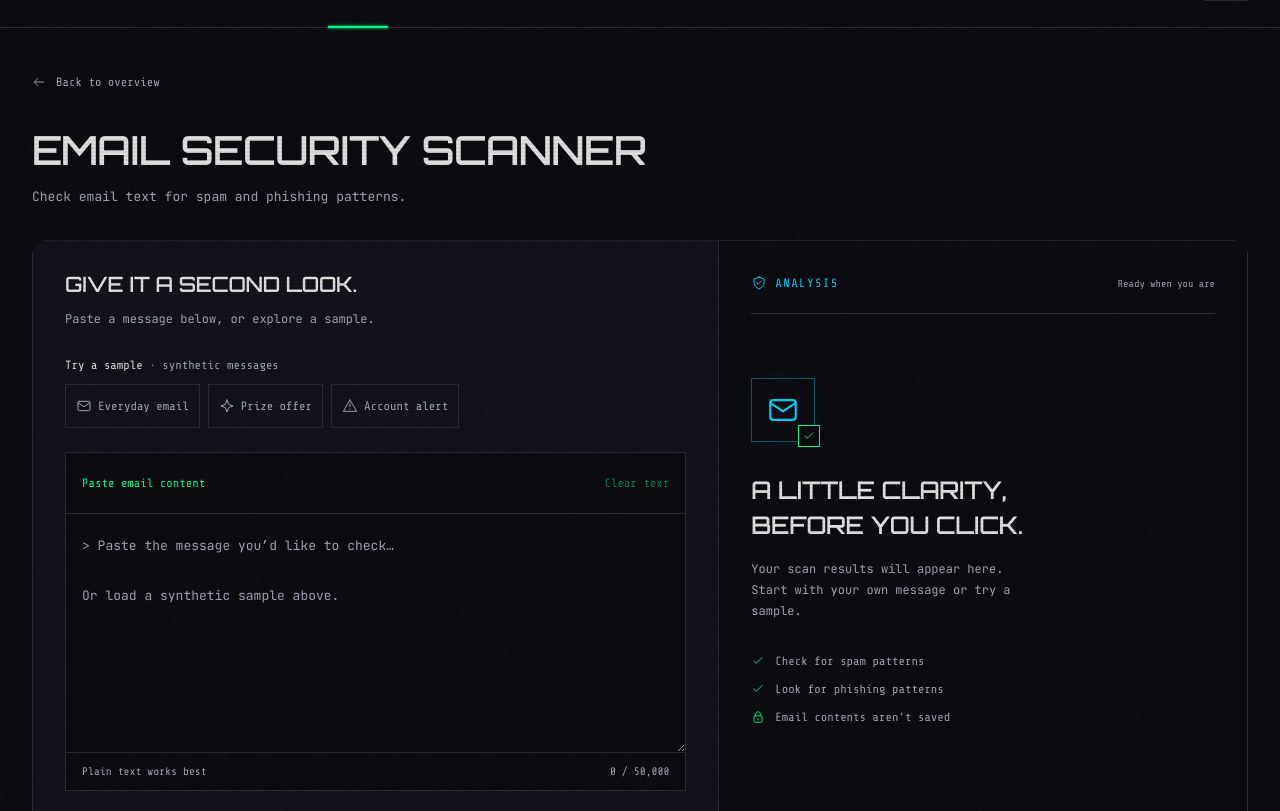
Test: keyboard shortcut scans and ignores duplicate submissions while pending
Replace the text in the text box labelled "Paste email content" with "hello". click: [376, 633]
box: [66,514,685,752]
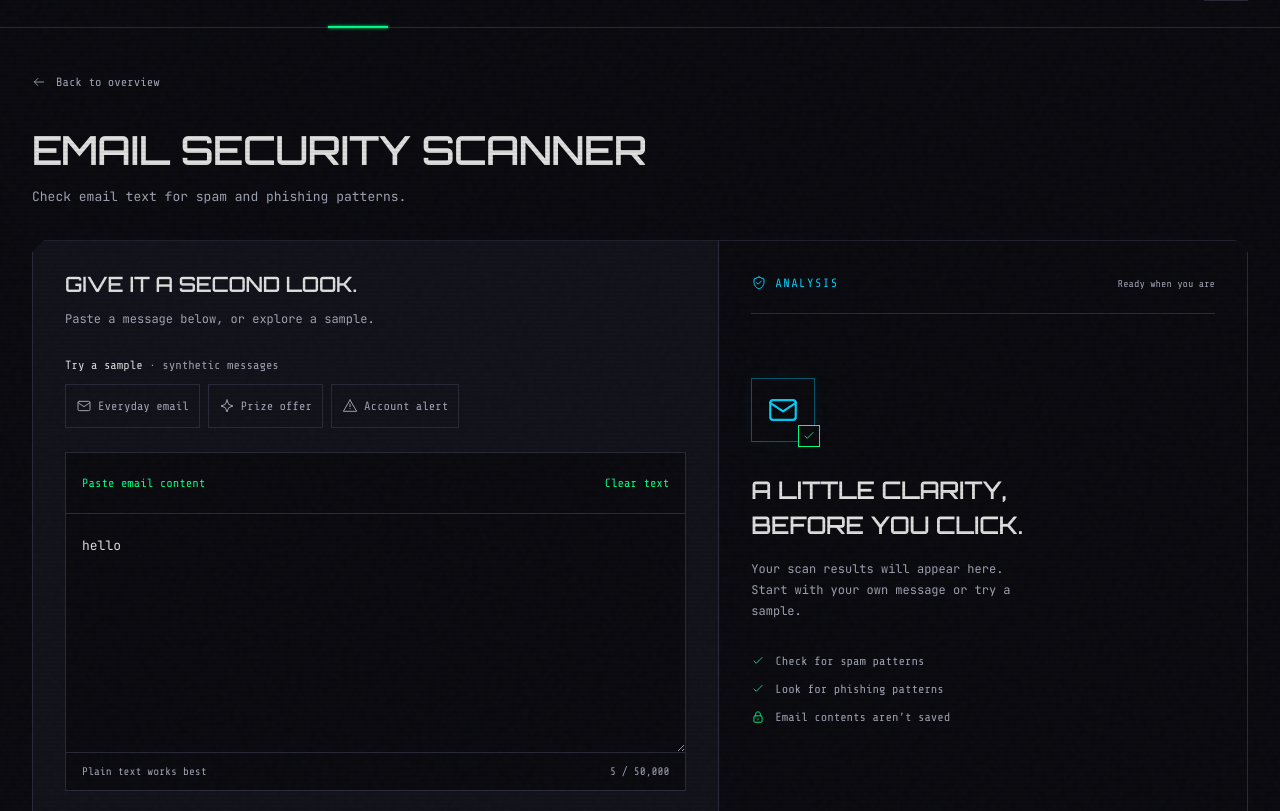
Press Enter in the text box labelled "Paste email content", box [66,514,685,752]
(page scrolled)
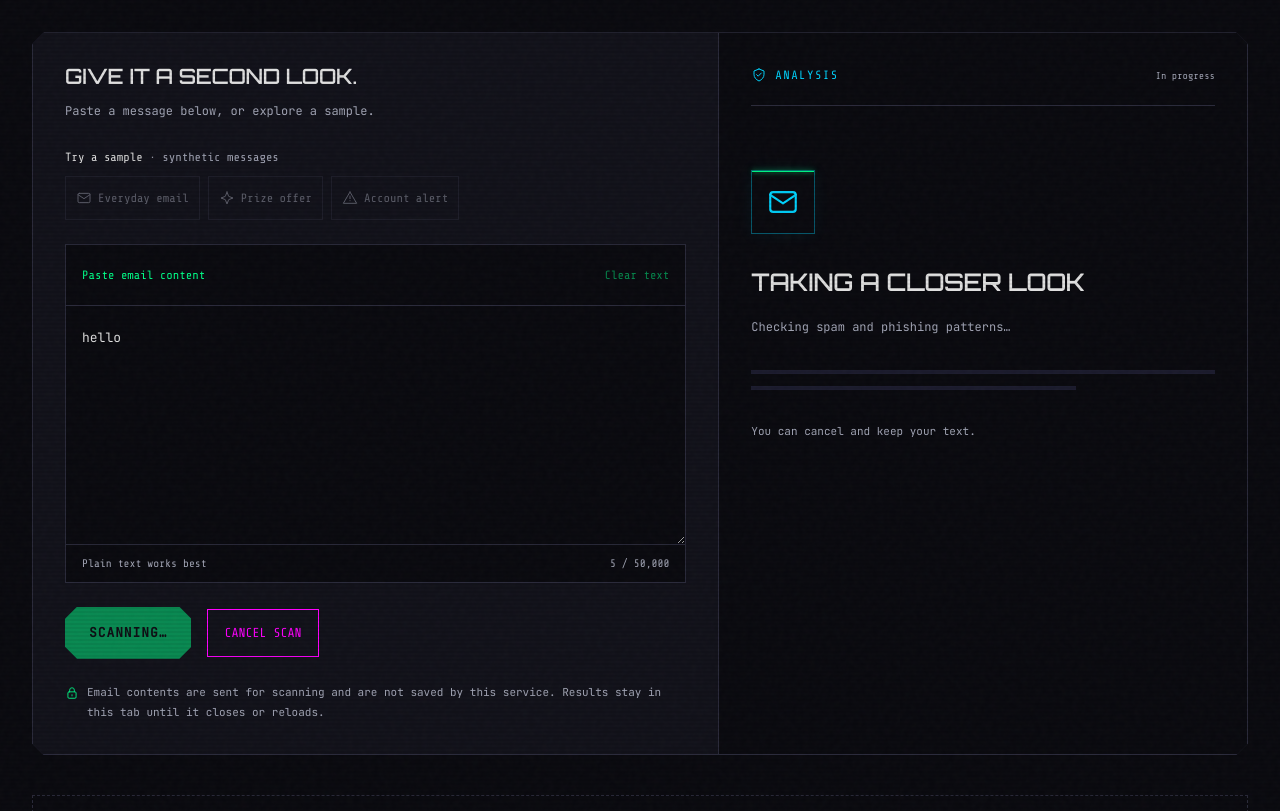
Submit the form named "Scanning…", box [33,33,718,754]
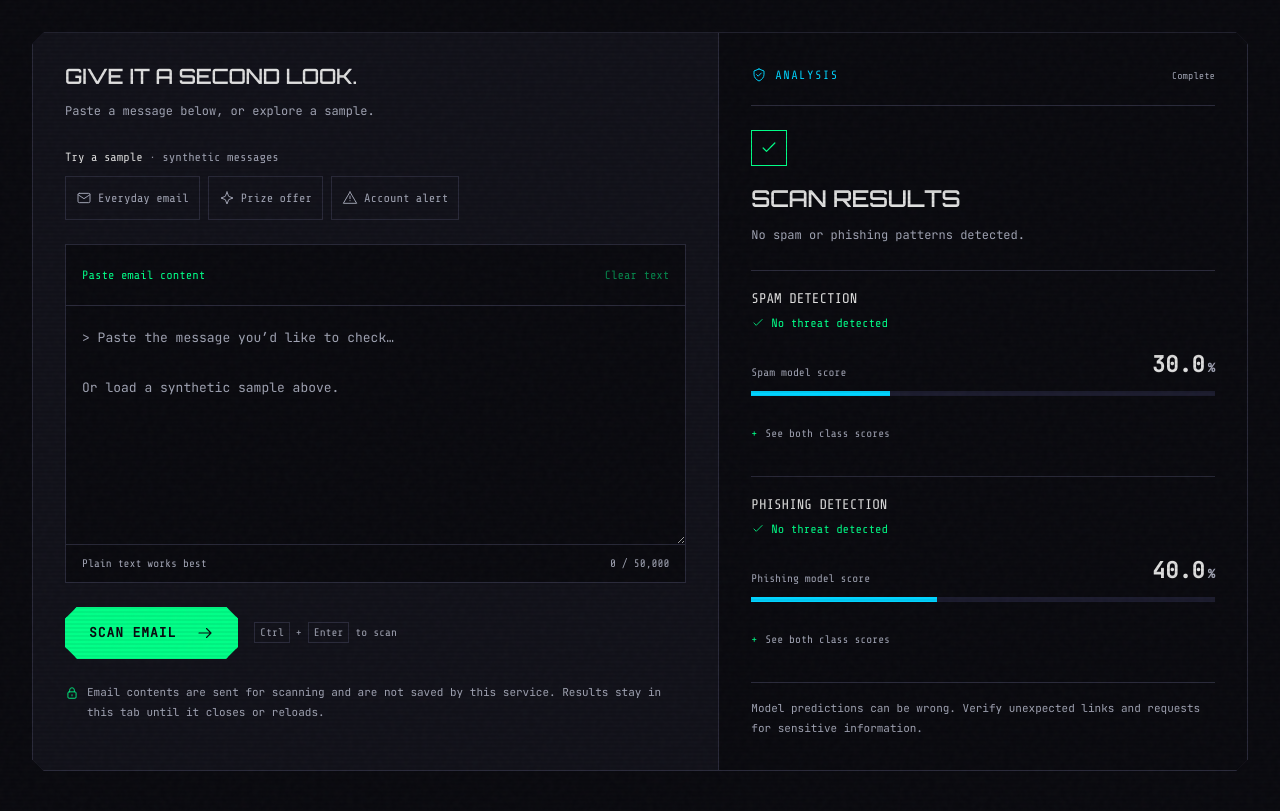
Check: the heading "Scan results" is shown, box [751,185,960,212]
